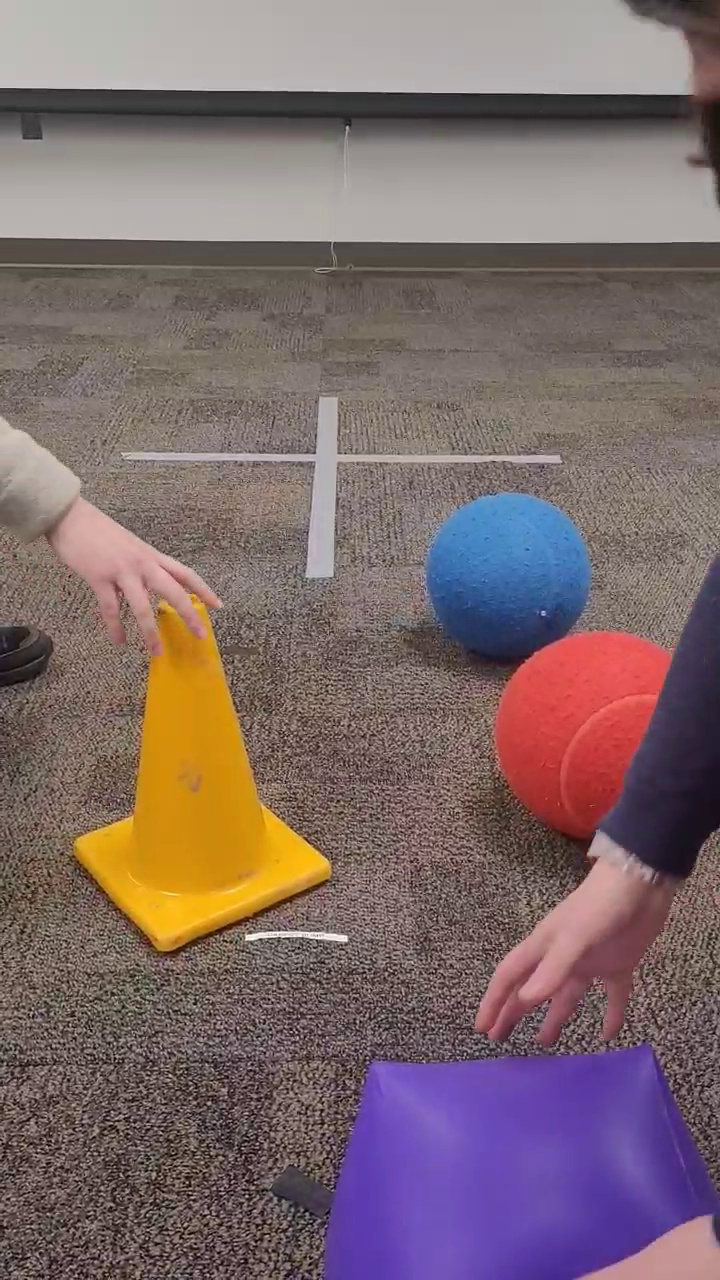ball: (486, 631, 707, 841), (424, 490, 594, 661)
cone: (70, 593, 339, 961)
cube: (320, 1042, 718, 1279)
face: (630, 7, 718, 209)
foot: (1, 620, 59, 686)
hand: (464, 543, 720, 1052), (1, 408, 226, 656), (568, 1207, 716, 1274)
